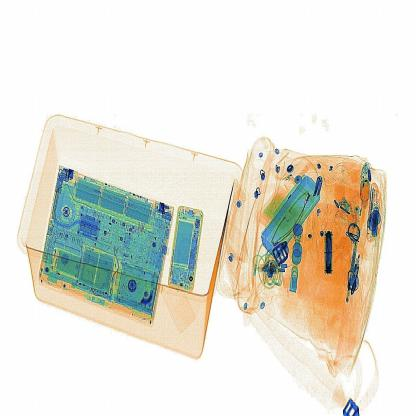scissors: (317, 224, 336, 282)
